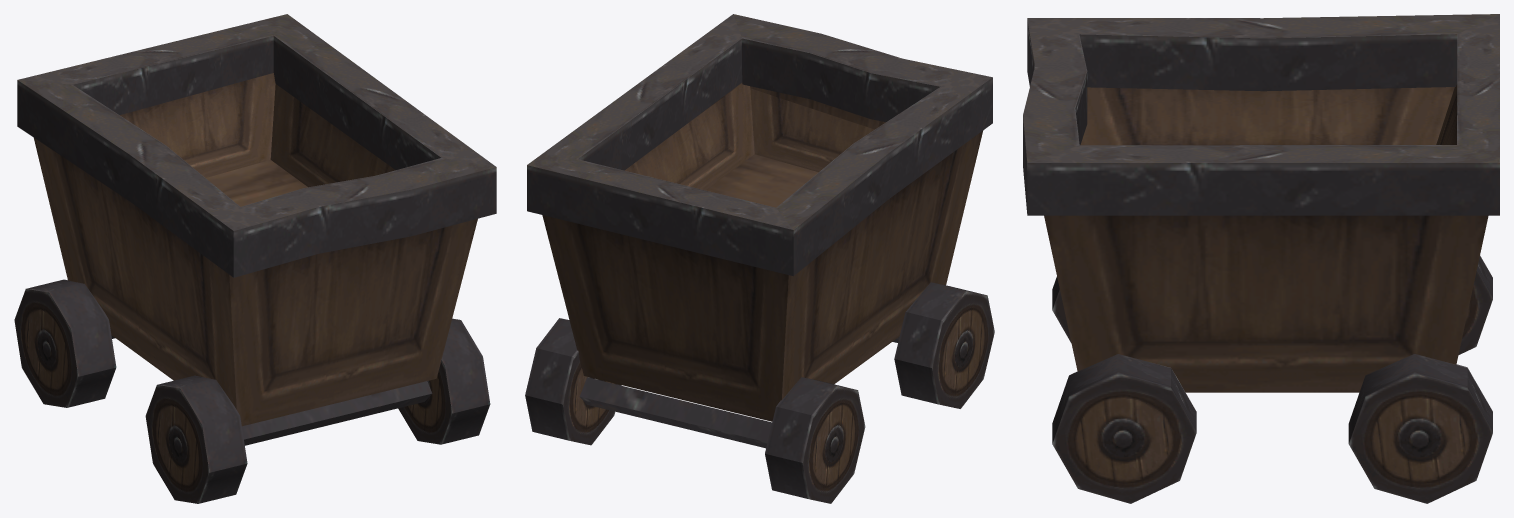
File: 6001_Item_daolu_10.FBX
3 views of the same model, side by side, from view 1: azimuth 30°, elevation 25°; view 2: azimuth 150°, elevation 25°; view 3: azimuth 270°, elevation 25° (orthographic). The views are drawn at different scales.
Parts seen in each view (by area): view 1: 6001_Item_daolu_10; view 2: 6001_Item_daolu_10; view 3: 6001_Item_daolu_10.
Boxes of the visible parts, x1,y1,x2,y2 form: 6001_Item_daolu_10: (14, 14, 496, 503); 6001_Item_daolu_10: (525, 14, 994, 503); 6001_Item_daolu_10: (1023, 14, 1499, 503).
Bounding box in the file's own units: 160 × 163 × 208.
